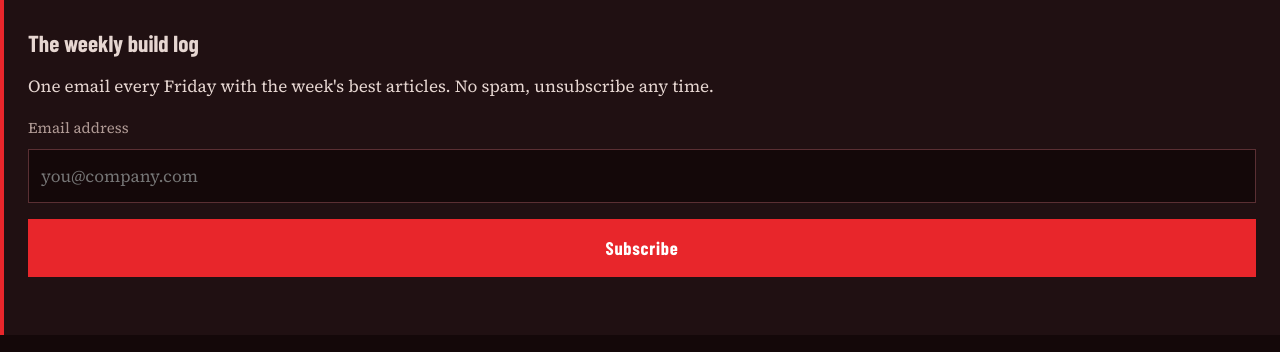
NewsletterForm › submits successfully for valid email address
The width and height of the screenshot is (1280, 352).
Type "engineer@nightwatch.tech" into the field labelled "Email address" at (642, 176), box [28, 148, 1256, 202]
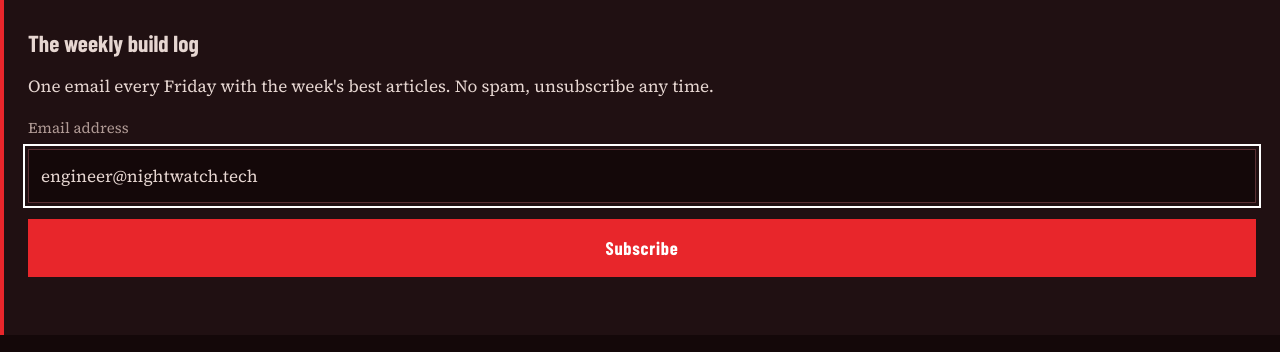
Click the button "Subscribe" at (642, 248), box [28, 219, 1256, 277]
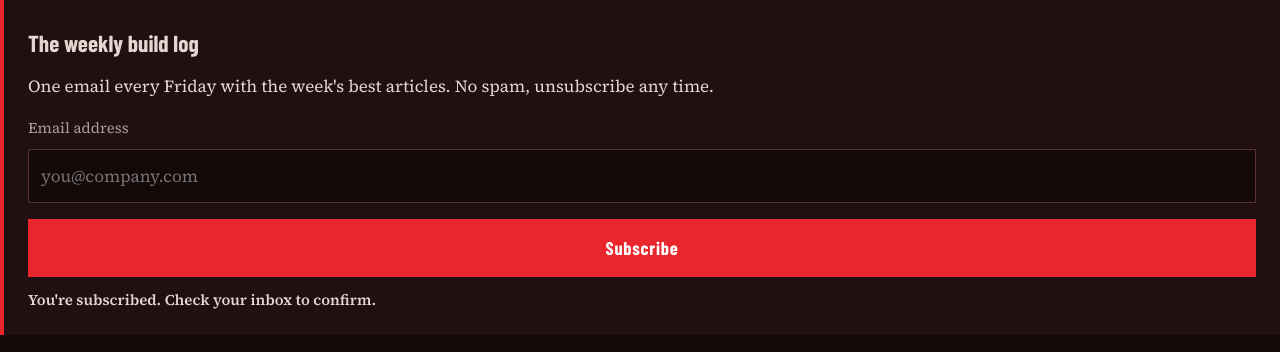
Check: the message reads "You're subscribed. Check your inbox to confirm.", box [28, 289, 376, 310]
